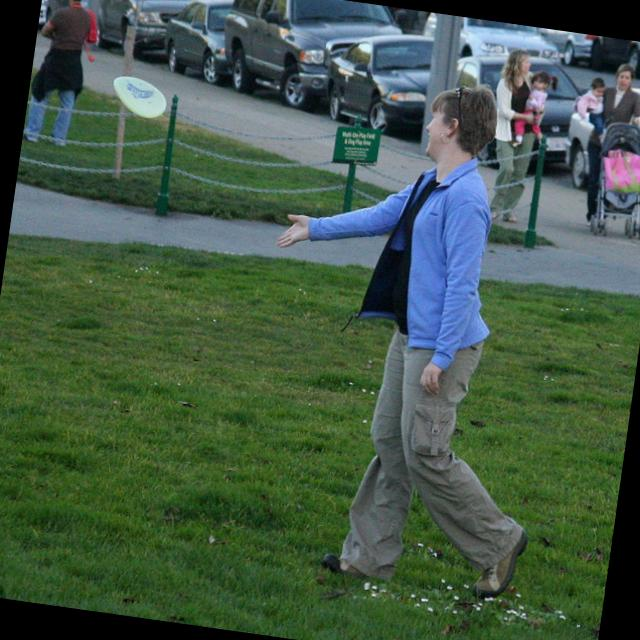Vehicle: (213, 0, 406, 119), (440, 50, 586, 170), (319, 22, 437, 137), (559, 73, 640, 205), (416, 12, 570, 78), (92, 0, 205, 59), (158, 0, 233, 88), (587, 35, 640, 85), (38, 0, 71, 29)
